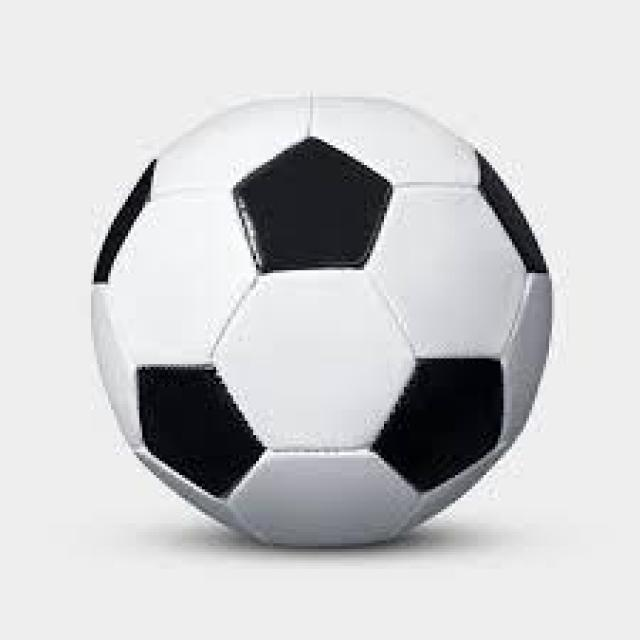Soccer Ball: (94, 94, 552, 549)
